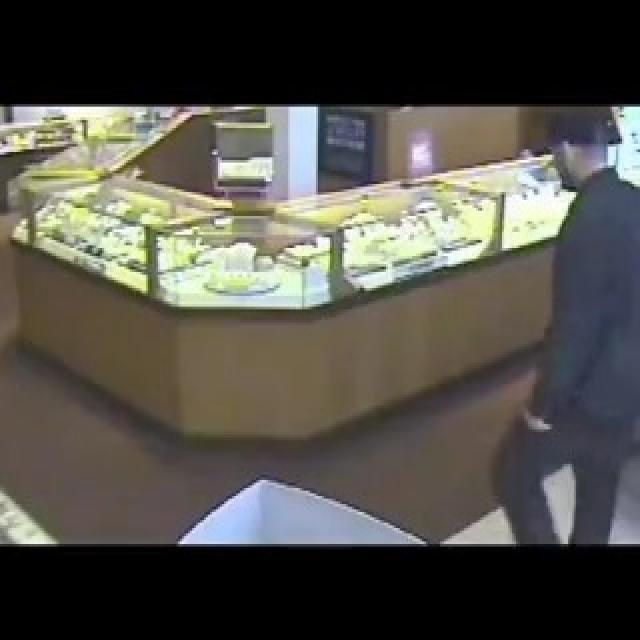Normal: (484, 98, 640, 542)
